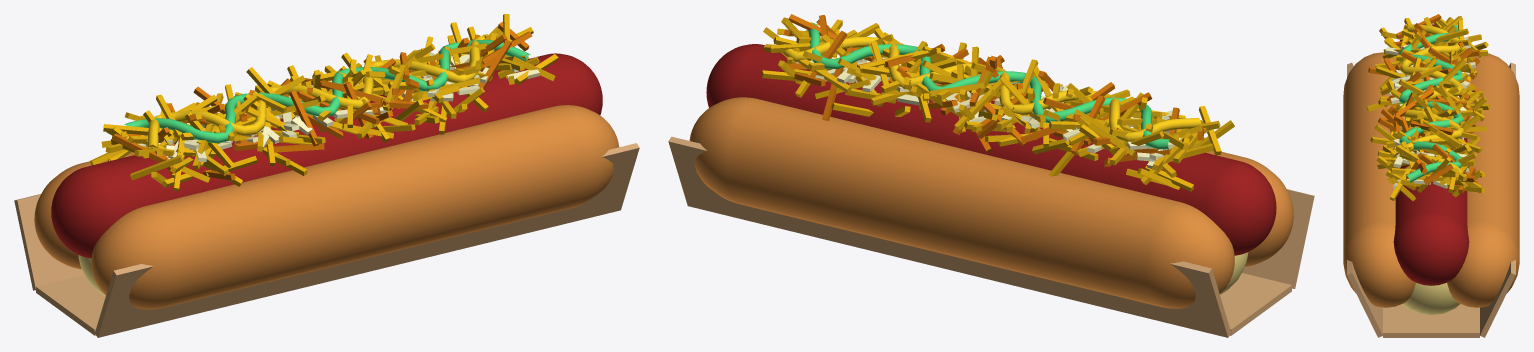
The model's file is perro.glb.
3 renders of one model, left to right at view 1: azimuth 30°, elevation 25°; view 2: azimuth 150°, elevation 25°; view 3: azimuth 270°, elevation 25°, orthographic. The views are drawn at different scales.
Parts seen in each view (by area): view 1: Perro_Caliente_Procedural, Ripio_De_Papa; view 2: Perro_Caliente_Procedural, Ripio_De_Papa; view 3: Perro_Caliente_Procedural, Ripio_De_Papa.
Boxes of the visible parts, x1,y1,x2,y2 form: Perro_Caliente_Procedural: (14,34,639,337); Ripio_De_Papa: (90,14,558,191); Perro_Caliente_Procedural: (668,23,1314,337); Ripio_De_Papa: (761,14,1234,191); Perro_Caliente_Procedural: (1343,24,1519,337); Ripio_De_Papa: (1366,14,1490,200).
Bounding box in the file's own units: 3.71 × 1.21 × 1.28.
